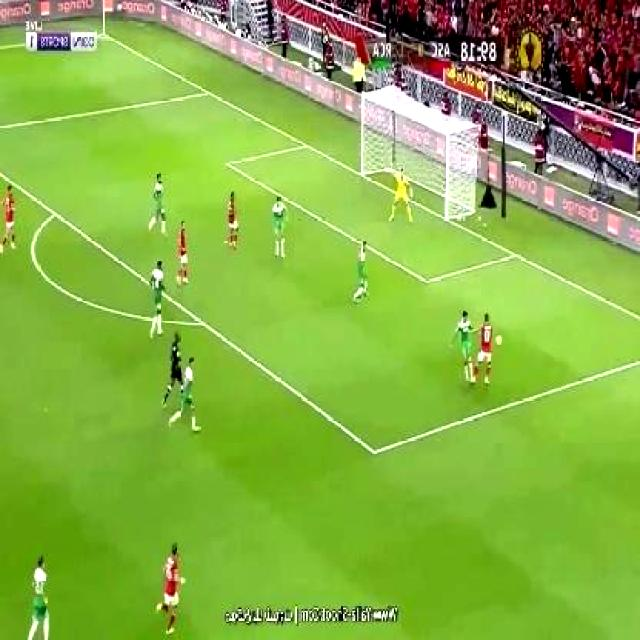bigarea_bottom_inner: (364, 434, 388, 466)
bigarea_top_outter: (202, 82, 218, 100)
bottom_arc_area_intersection: (195, 311, 212, 334)
corner: (92, 24, 114, 41)
smallarea_bottom_inner: (418, 264, 438, 294)
smallarea_bottom_outter: (508, 242, 524, 264)
smallarea_top_inner: (220, 152, 238, 174)
smallarea_top_outter: (298, 134, 316, 154)
top_arc_area_intersection: (48, 202, 64, 222)
